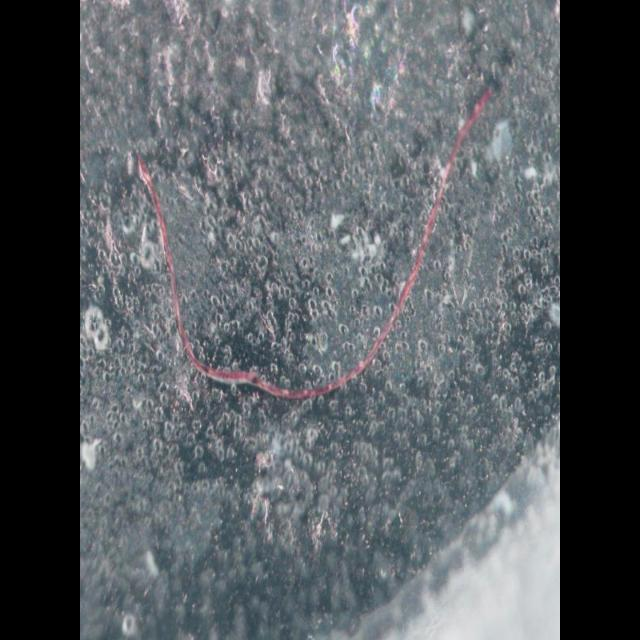Fibre: (137, 82, 495, 402)
